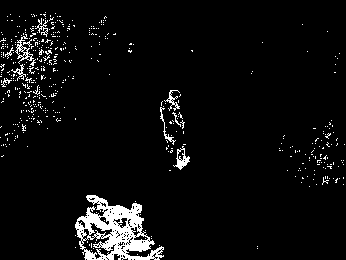person: (158, 89, 192, 172)
